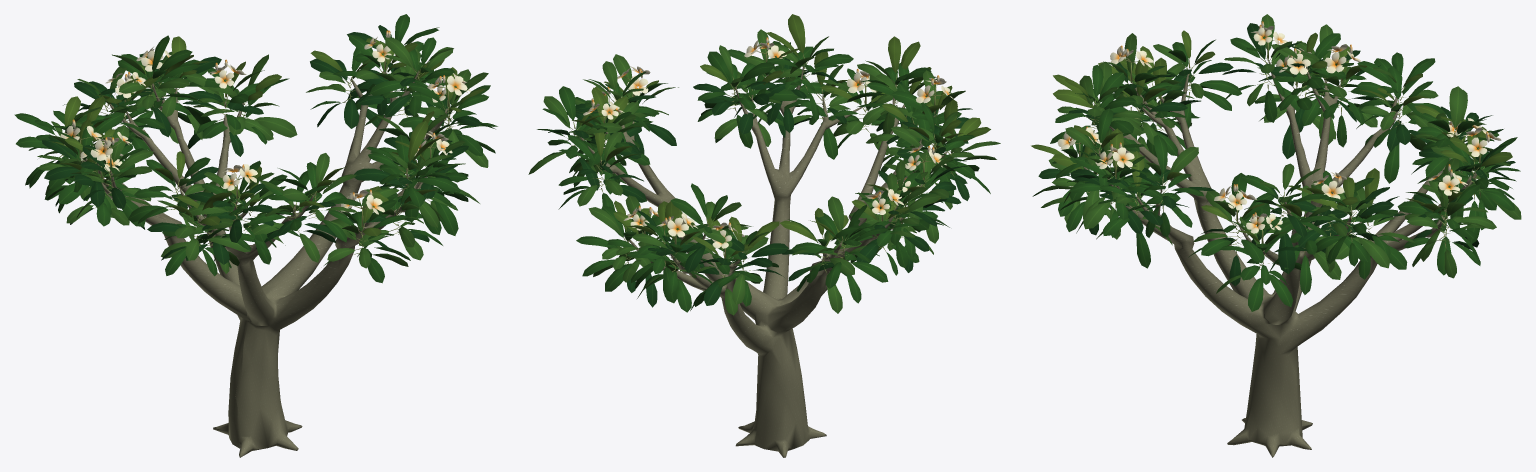
File: Frangipani_LOD1.glb
The picture shows the model from 3 angles, left to right: view 1: azimuth 30°, elevation 25°; view 2: azimuth 150°, elevation 25°; view 3: azimuth 270°, elevation 25°; orthographic projection. The views are drawn at different scales.
Visible parts, largest first — view 1: Frangipani_Obovate_Leaves.005, Frangipani_Sculptural_Branches.006, Frangipani_FivePetal_Flowers.005, Frangipani_Petioles_Inflorescences.005; view 2: Frangipani_Obovate_Leaves.005, Frangipani_Sculptural_Branches.006, Frangipani_FivePetal_Flowers.005, Frangipani_Petioles_Inflorescences.005; view 3: Frangipani_Obovate_Leaves.005, Frangipani_Sculptural_Branches.006, Frangipani_FivePetal_Flowers.005, Frangipani_Petioles_Inflorescences.005.
Boxes of the visible parts, left/top/right/bottom form: Frangipani_Obovate_Leaves.005: left=14, top=14, right=497, bottom=283; Frangipani_Sculptural_Branches.006: left=81, top=59, right=447, bottom=457; Frangipani_FivePetal_Flowers.005: left=60, top=30, right=471, bottom=214; Frangipani_Petioles_Inflorescences.005: left=55, top=36, right=454, bottom=254; Frangipani_Obovate_Leaves.005: left=528, top=14, right=1000, bottom=315; Frangipani_Sculptural_Branches.006: left=579, top=63, right=948, bottom=457; Frangipani_FivePetal_Flowers.005: left=583, top=37, right=953, bottom=248; Frangipani_Petioles_Inflorescences.005: left=567, top=49, right=954, bottom=287; Frangipani_Obovate_Leaves.005: left=1031, top=14, right=1521, bottom=311; Frangipani_Sculptural_Branches.006: left=1083, top=60, right=1476, bottom=457; Frangipani_FivePetal_Flowers.005: left=1057, top=21, right=1501, bottom=233; Frangipani_Petioles_Inflorescences.005: left=1069, top=29, right=1486, bottom=277.
Size of the model in its own units: 6.23 by 5.06 by 6.4.
Materials: 4 (3 with a texture image).
